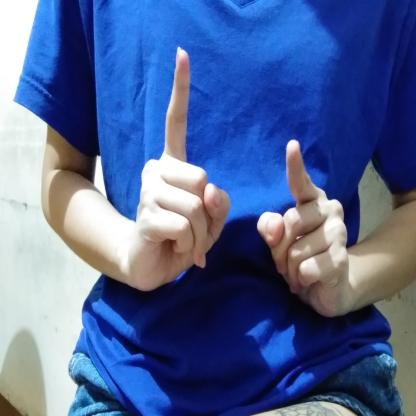morning: (131, 38, 356, 324)
